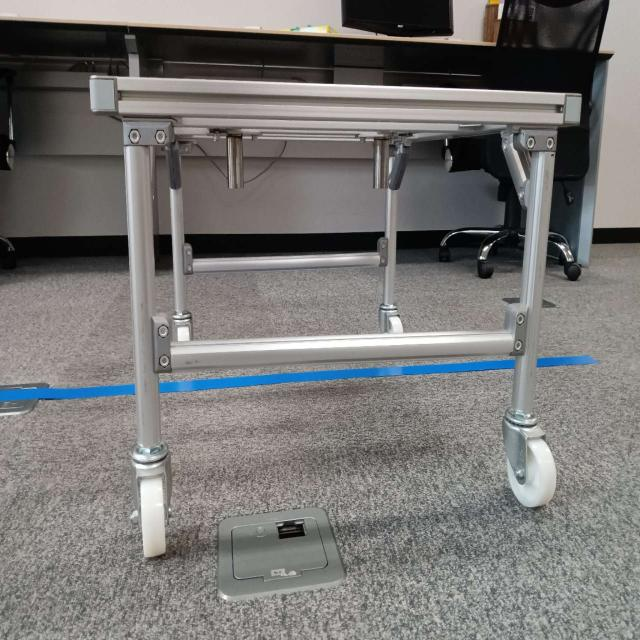side: (121, 75, 562, 366)
